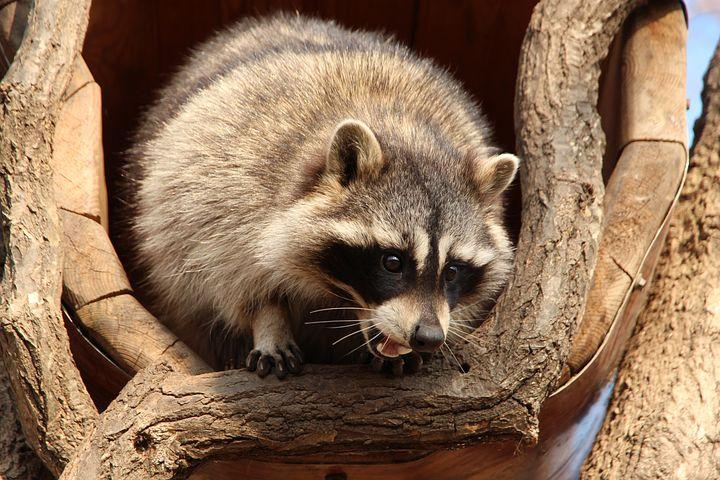raccoon: (114, 10, 525, 378)
